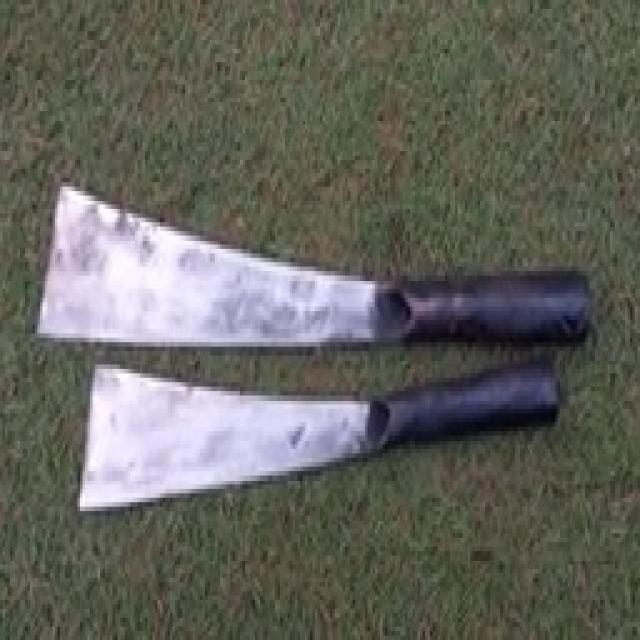eto: (34, 175, 586, 351)
